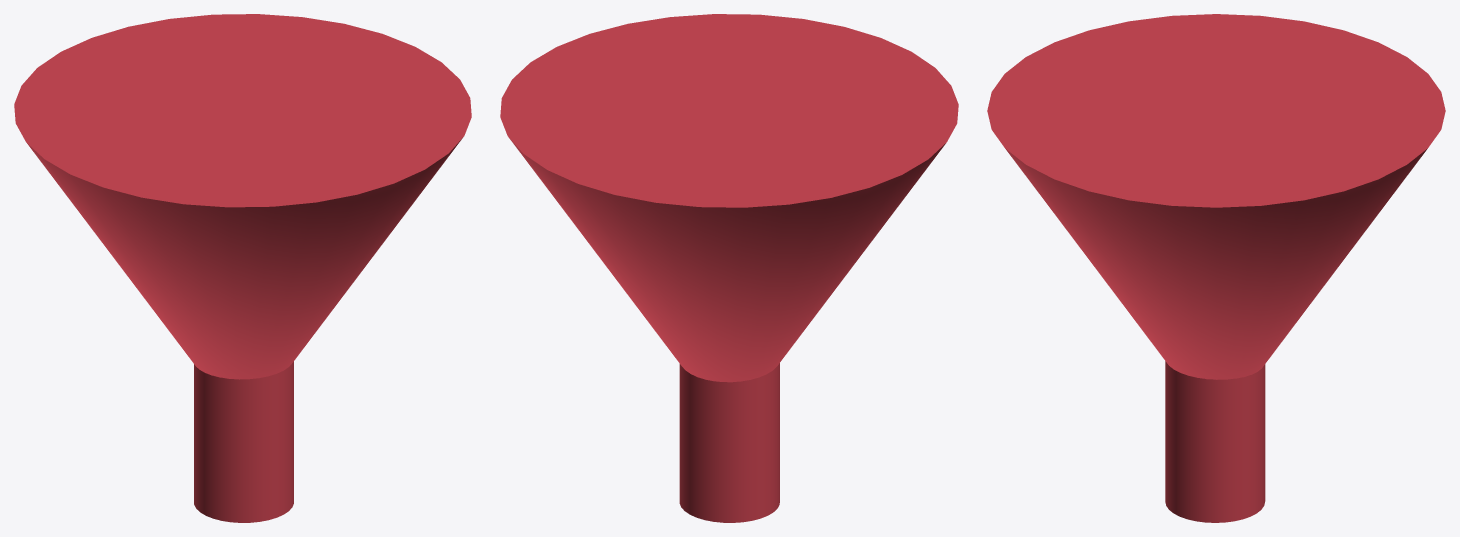
File: Corong.fbx
The picture shows the model from 3 angles, left to right: view 1: azimuth 30°, elevation 25°; view 2: azimuth 150°, elevation 25°; view 3: azimuth 270°, elevation 25°; orthographic projection.
Parts seen in each view (by area): view 1: Corong; view 2: Corong; view 3: Corong.
Boxes of the visible parts, x1=… form: Corong: x1=14, y1=14, x2=471, y2=522; Corong: x1=500, y1=14, x2=958, y2=522; Corong: x1=987, y1=14, x2=1445, y2=522.
Size of the model in its own units: 255 by 240 by 255.
